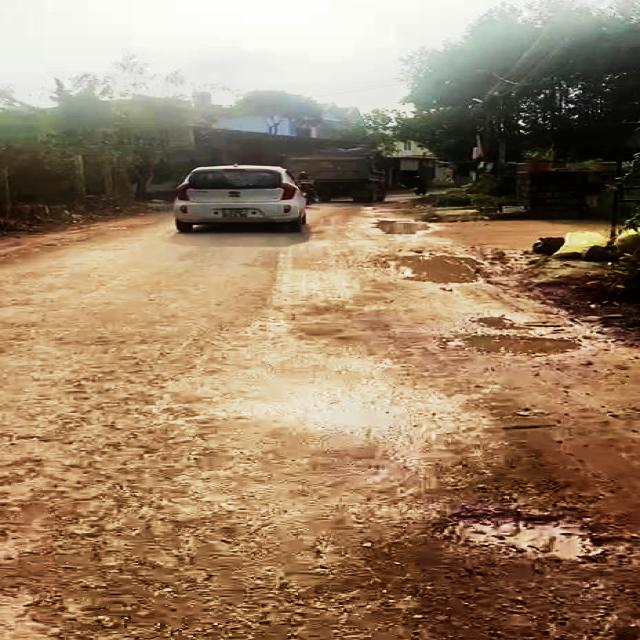pothole: (433, 502, 632, 574), (444, 328, 589, 362), (381, 251, 488, 287), (380, 218, 434, 239)
